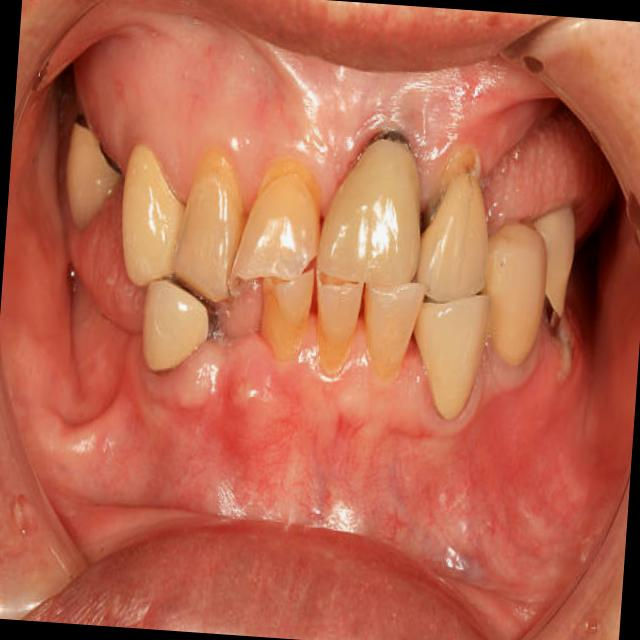calculus: (303, 285, 367, 387), (258, 263, 320, 362), (358, 308, 418, 399)
